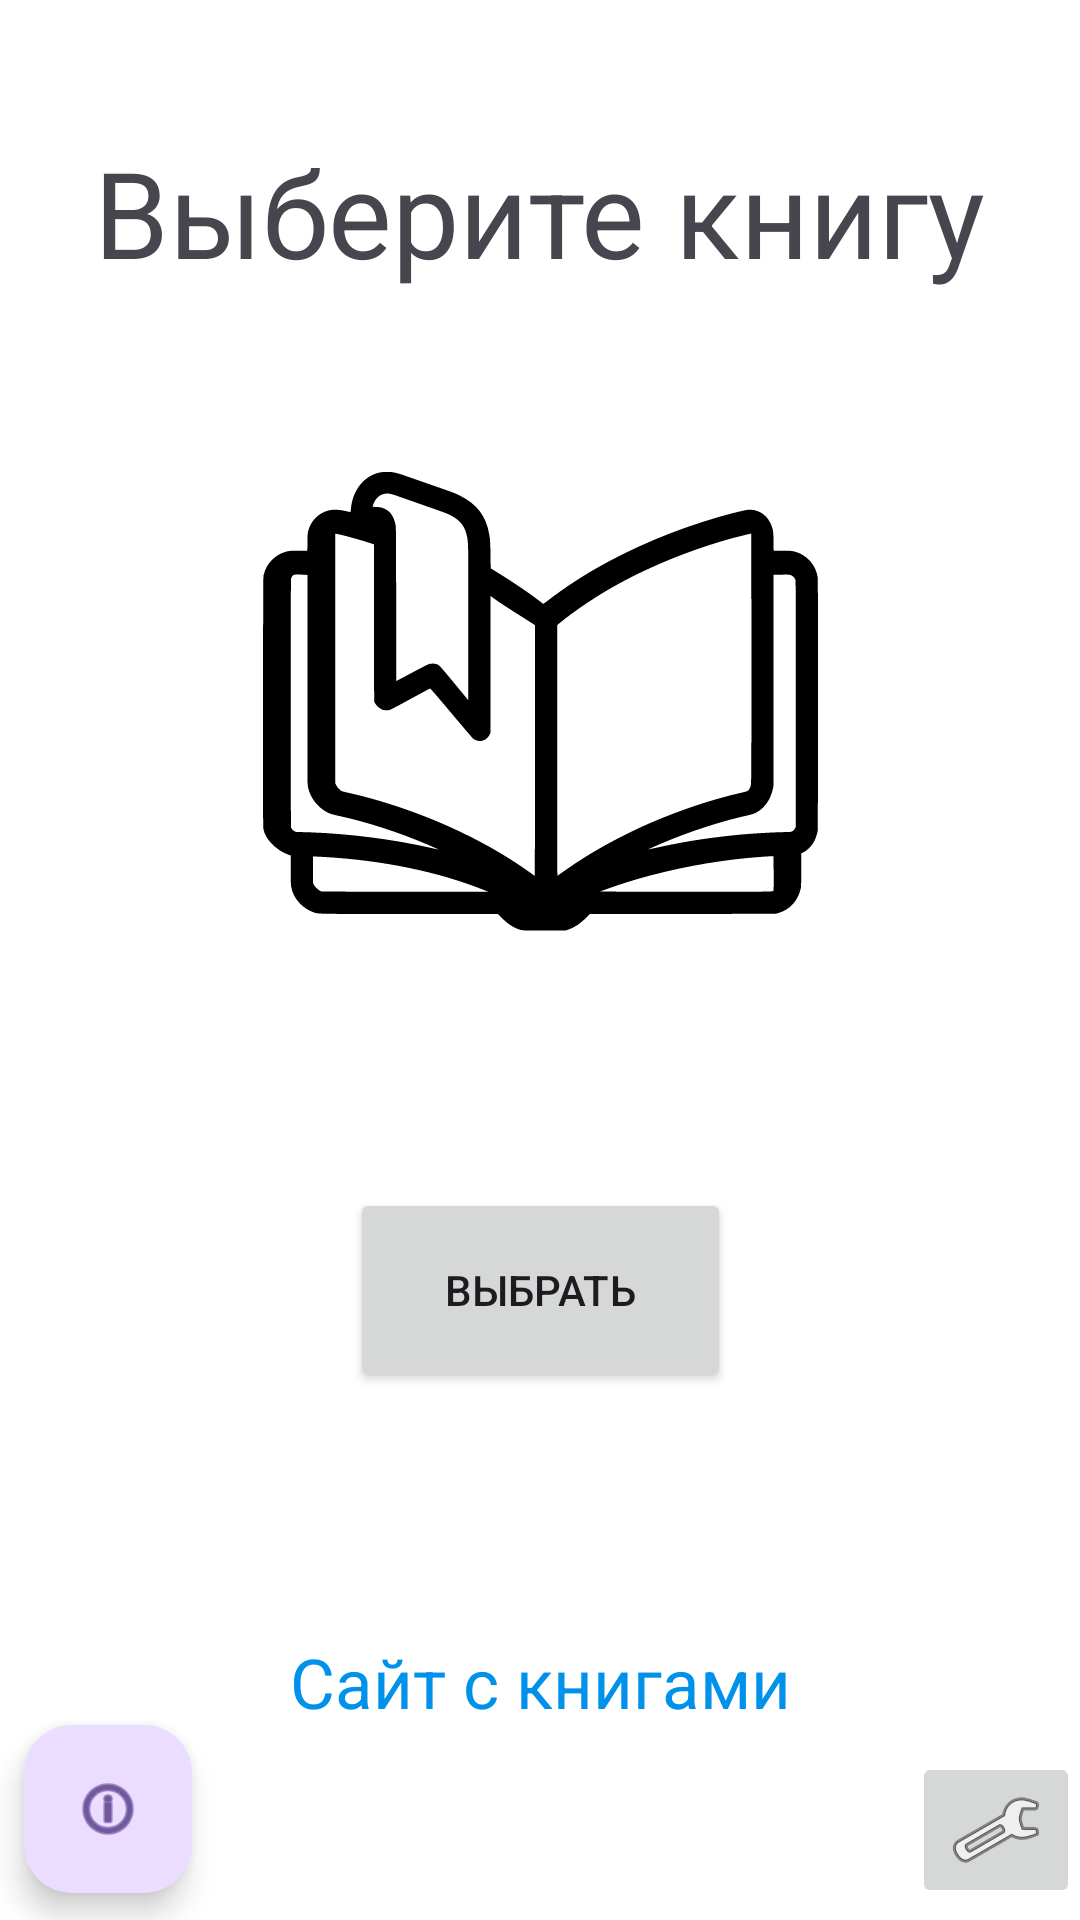

Where icons sit on this 1080*1920 app screen, as Rect(x1, y1, x2, y2):
info details: Rect(24, 1725, 192, 1893)
manage: Rect(924, 1770, 1068, 1890)
